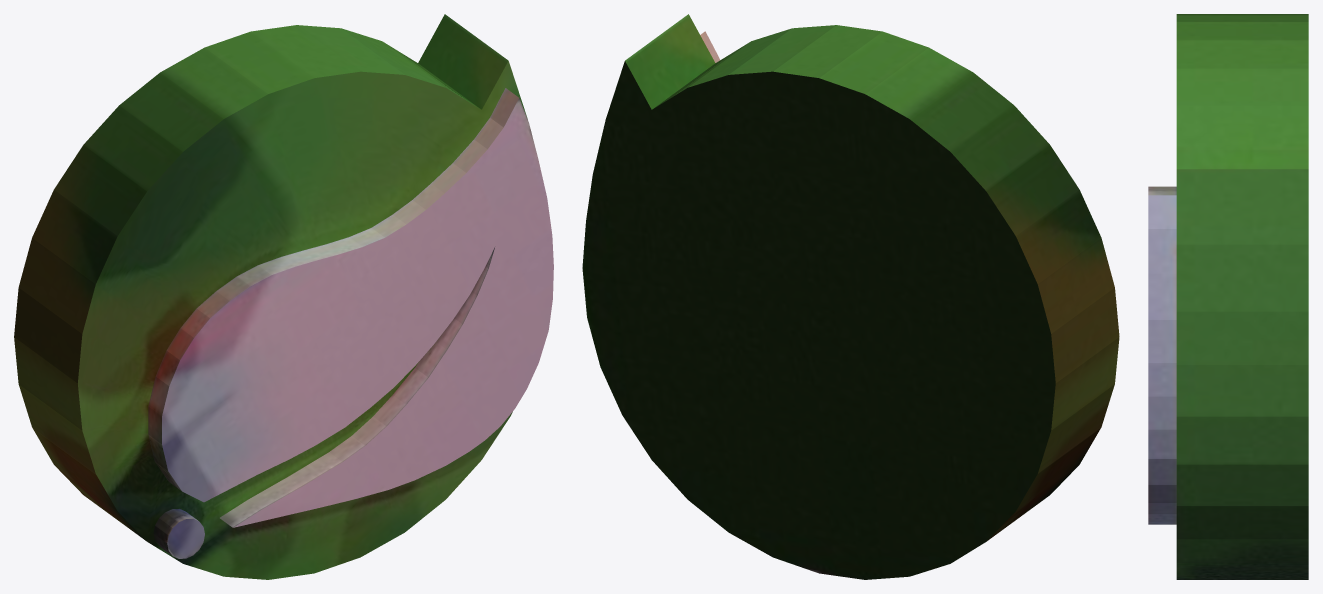
Rendered from icon_spring_framework.glb.
The picture shows the model from 3 angles, left to right: view 1: azimuth 30°, elevation 25°; view 2: azimuth 150°, elevation 25°; view 3: azimuth 270°, elevation 25°; orthographic projection. The views are drawn at different scales.
Visible parts, largest first — view 1: icon_spring_framework; view 2: icon_spring_framework; view 3: icon_spring_framework.
Boxes of the visible parts, left/top/right/bottom form: icon_spring_framework: left=14, top=14, right=553, bottom=579; icon_spring_framework: left=582, top=14, right=1119, bottom=579; icon_spring_framework: left=1148, top=14, right=1308, bottom=579.
Size of the model in its own units: 3.89 by 3.89 by 1.1.
1 material, 1 textured.
